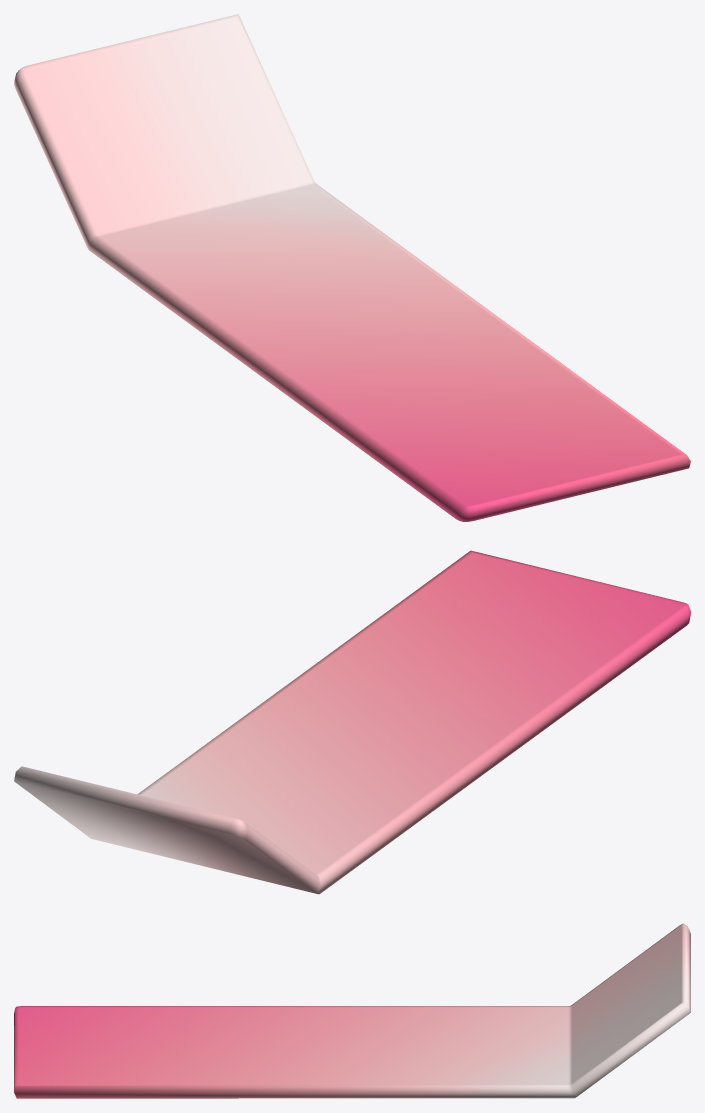
File: SunLounger_MattressGradient_B.fbx
The picture shows the model from 3 angles, top to bottom: view 1: azimuth 30°, elevation 25°; view 2: azimuth 150°, elevation 25°; view 3: azimuth 270°, elevation 25°; orthographic projection. The views are drawn at different scales.
Visible parts, largest first — view 1: SunLounger_MattressGradient_B; view 2: SunLounger_MattressGradient_B; view 3: SunLounger_MattressGradient_B.
Boxes of the visible parts, box(x1,y1,x2,y2) form: SunLounger_MattressGradient_B: box(14, 14, 690, 521); SunLounger_MattressGradient_B: box(14, 550, 690, 894); SunLounger_MattressGradient_B: box(14, 923, 690, 1098).
Bounding box in the file's own units: 45.43 × 24.42 × 157.
